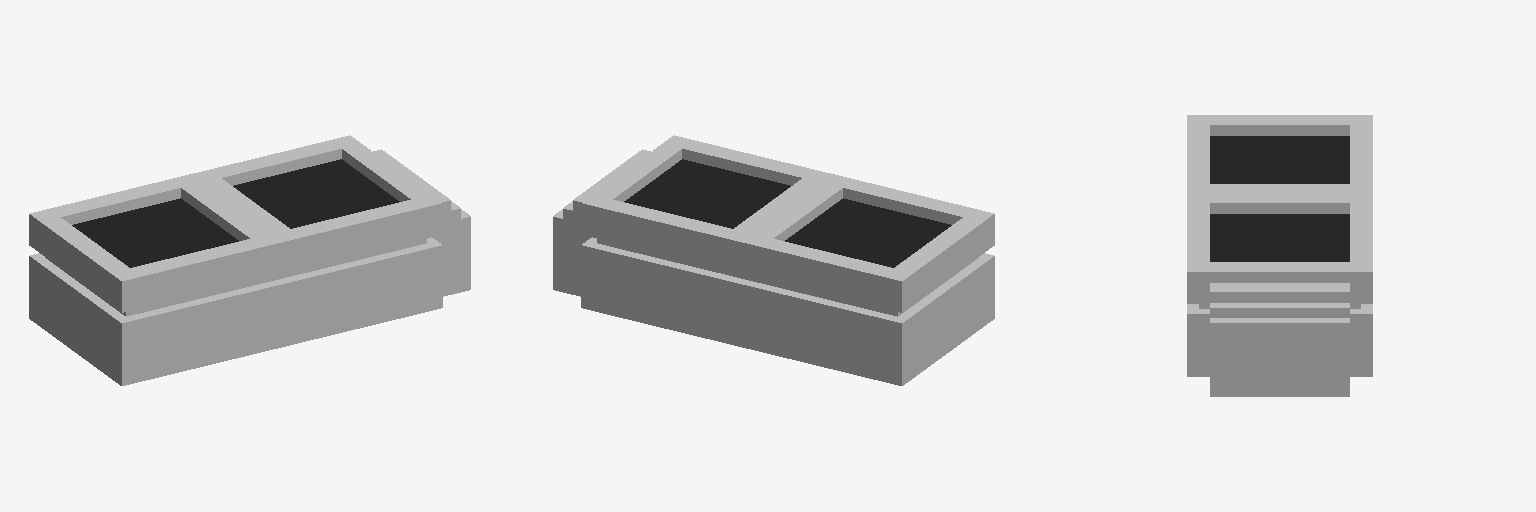
3 views of the same model, side by side, from view 1: azimuth 30°, elevation 25°; view 2: azimuth 150°, elevation 25°; view 3: azimuth 270°, elevation 25° (orthographic).
Visible parts, largest first — view 1: OutsideDecor_Aircon; view 2: OutsideDecor_Aircon; view 3: OutsideDecor_Aircon.
Part boxes in pixels (x1,y1,x2,y2): OutsideDecor_Aircon: (29,135,470,385); OutsideDecor_Aircon: (553,135,994,385); OutsideDecor_Aircon: (1187,115,1372,396).
Bounding box in the file's own units: 36 × 10 × 16.
1 materials, 1 textured.